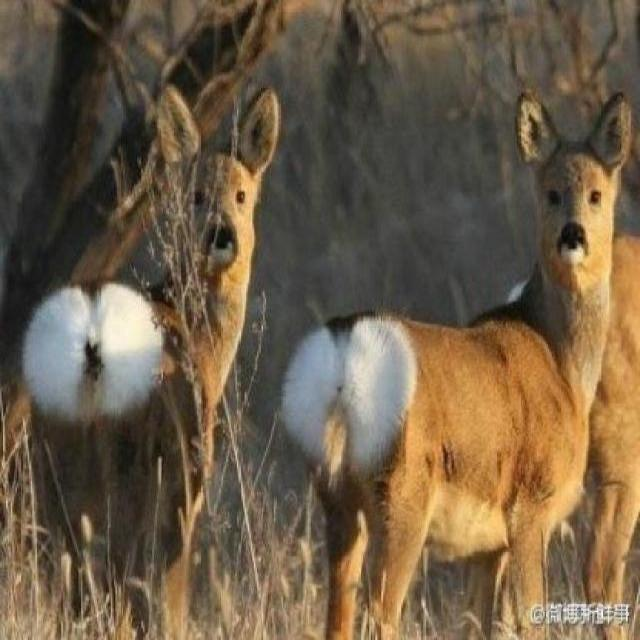deer: (293, 75, 639, 637), (22, 73, 290, 638)
